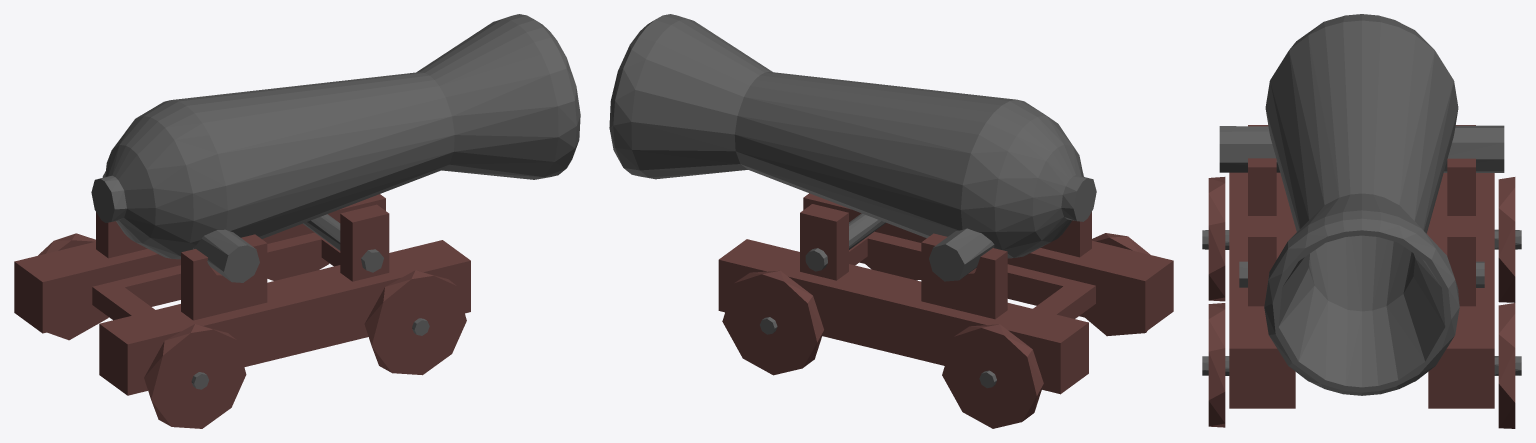
The model's file is Cannon.fbx.
The picture shows the model from 3 angles, left to right: view 1: azimuth 30°, elevation 25°; view 2: azimuth 150°, elevation 25°; view 3: azimuth 270°, elevation 25°; orthographic projection. The views are drawn at different scales.
Parts seen in each view (by area): view 1: Cylinder, Cube.001, Wheel, Wheel.001, Cylinder.002, Wheel.002; view 2: Cylinder, Cube.001, Wheel.002, Wheel.003, Cylinder.002, Wheel.001; view 3: Cylinder, Cube.001, Wheel.002, Wheel.003, Wheel, Wheel.001, Cylinder.002.
Part boxes in pixels (x1,y1,x2,y2): Cylinder: [91, 14, 580, 282]; Cube.001: [14, 194, 470, 395]; Wheel: [364, 270, 466, 375]; Wheel.001: [144, 324, 246, 428]; Cylinder.002: [303, 214, 383, 272]; Wheel.002: [38, 233, 108, 340]; Cylinder: [609, 14, 1096, 281]; Cube.001: [718, 193, 1173, 394]; Wheel.002: [942, 324, 1043, 428]; Wheel.003: [722, 270, 823, 375]; Cylinder.002: [805, 213, 885, 271]; Wheel.001: [1085, 233, 1150, 336]; Cylinder: [1219, 14, 1504, 395]; Cube.001: [1229, 125, 1494, 408]; Wheel.002: [1498, 177, 1515, 302]; Wheel.003: [1498, 303, 1515, 428]; Wheel: [1208, 303, 1225, 427]; Wheel.001: [1208, 177, 1225, 301]; Cylinder.002: [1239, 261, 1484, 287].
Bounding box in the file's own units: 144 × 154 × 288.
